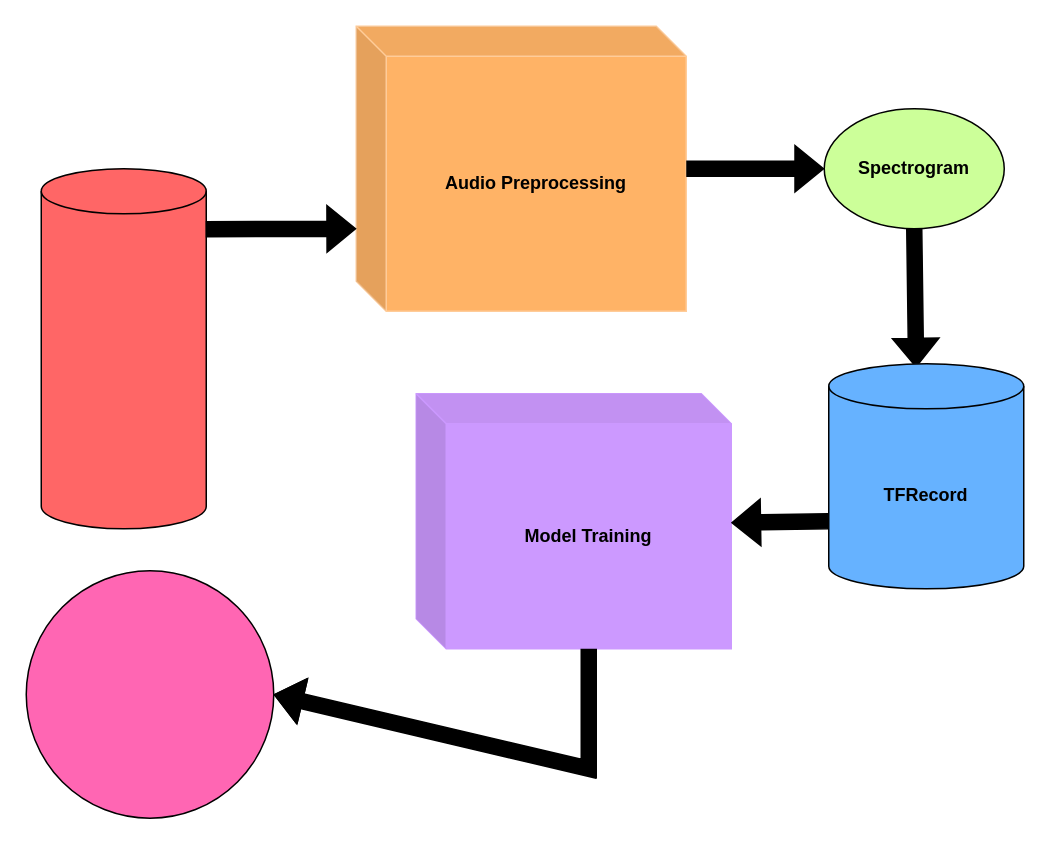
Image size: 1050x845. Some labels were removed from this diagram. The shapes that lost their labels are listed below. From the top down, each one's box as (x1, y1, x2, y2) in pixels, then its label:
(40, 167, 206, 529): Data: -barking audio -non_barking audio
(25, 569, 274, 818): Output Model
